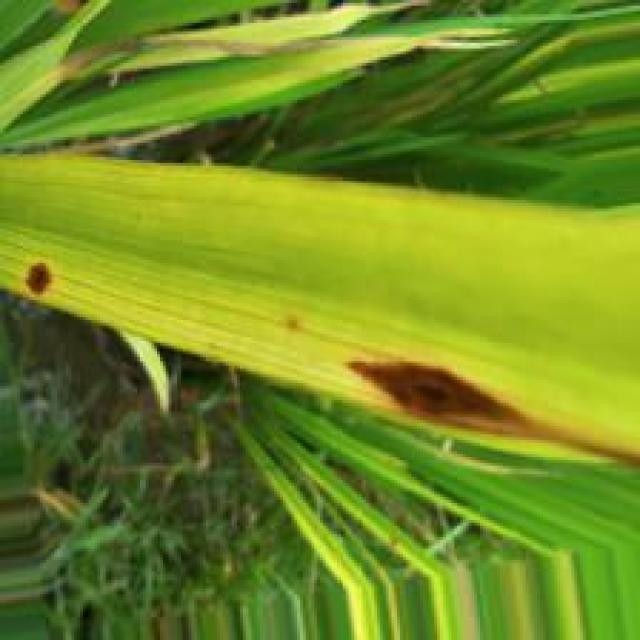Narrow_Brown_Leaf_Spot: (337, 347, 640, 475), (23, 256, 56, 300)
